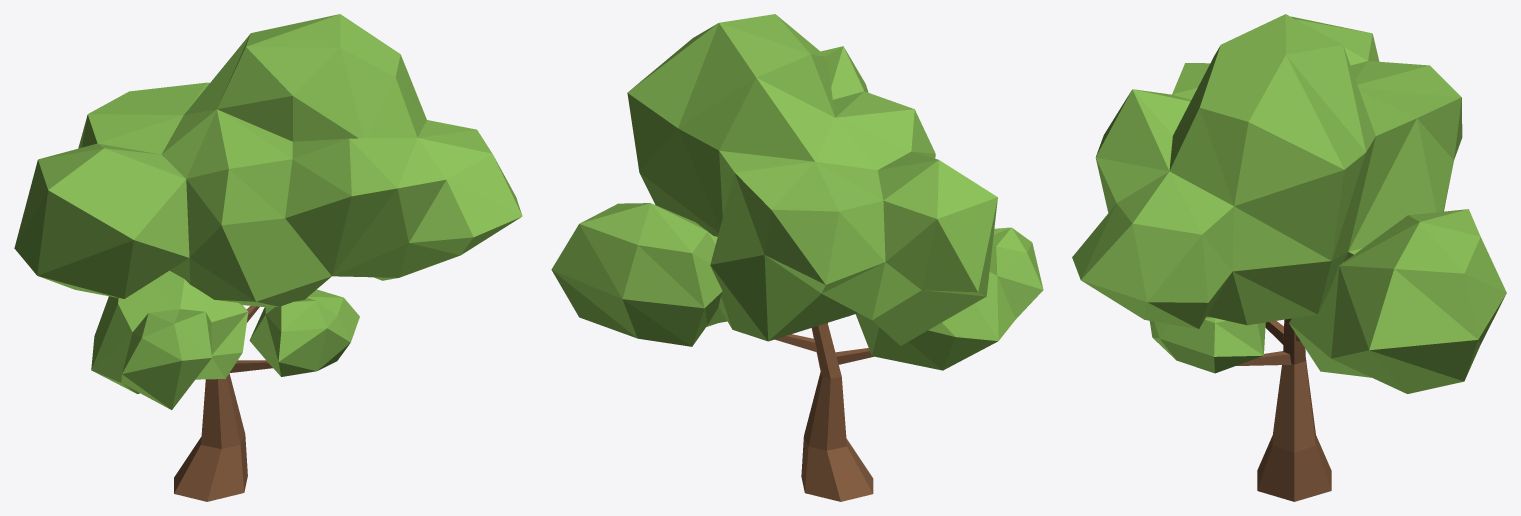
File: treeA_1.fbx
3 renders of one model, left to right at view 1: azimuth 30°, elevation 25°; view 2: azimuth 150°, elevation 25°; view 3: azimuth 270°, elevation 25°, orthographic. The views are drawn at different scales.
Parts seen in each view (by area): view 1: treeA_1; view 2: treeA_1; view 3: treeA_1.
Part boxes in pixels (bbox=[...]): treeA_1: bbox=[14, 14, 522, 501]; treeA_1: bbox=[551, 14, 1043, 501]; treeA_1: bbox=[1072, 14, 1506, 501].
Size of the model in its own units: 1603 by 1654 by 1315.
